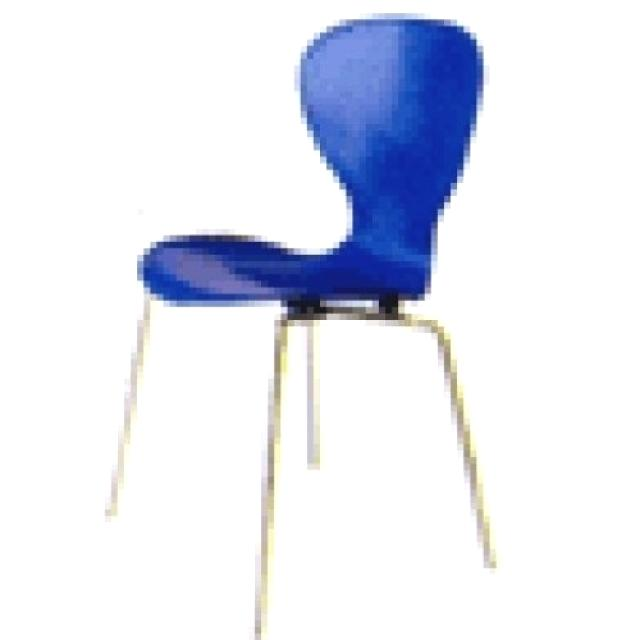Chair: (97, 10, 503, 640)
